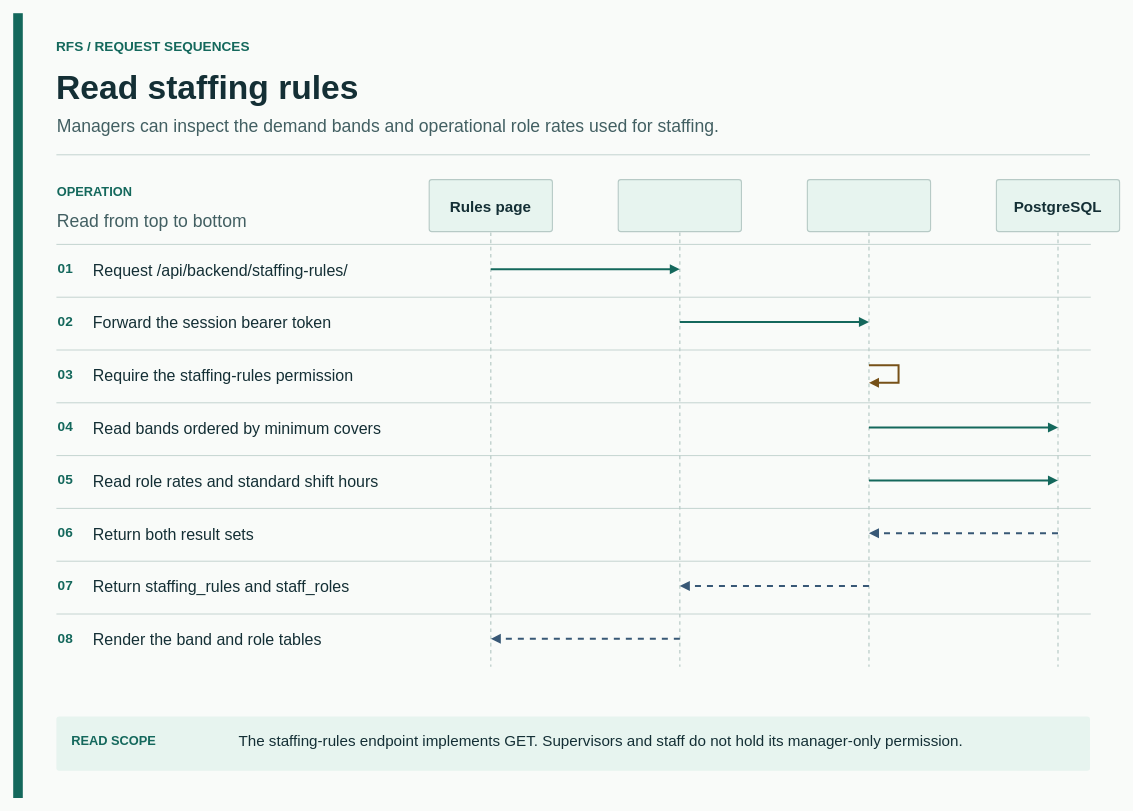
This 1133x811 diagram has some shape labels left out. The shapes that lost their labels are listed below. From the top down, each one's box as (x1, y1, x2, y2) in pixels, then its label:
(617, 179, 742, 232): Next.js proxy
(806, 179, 931, 232): Flask rules
